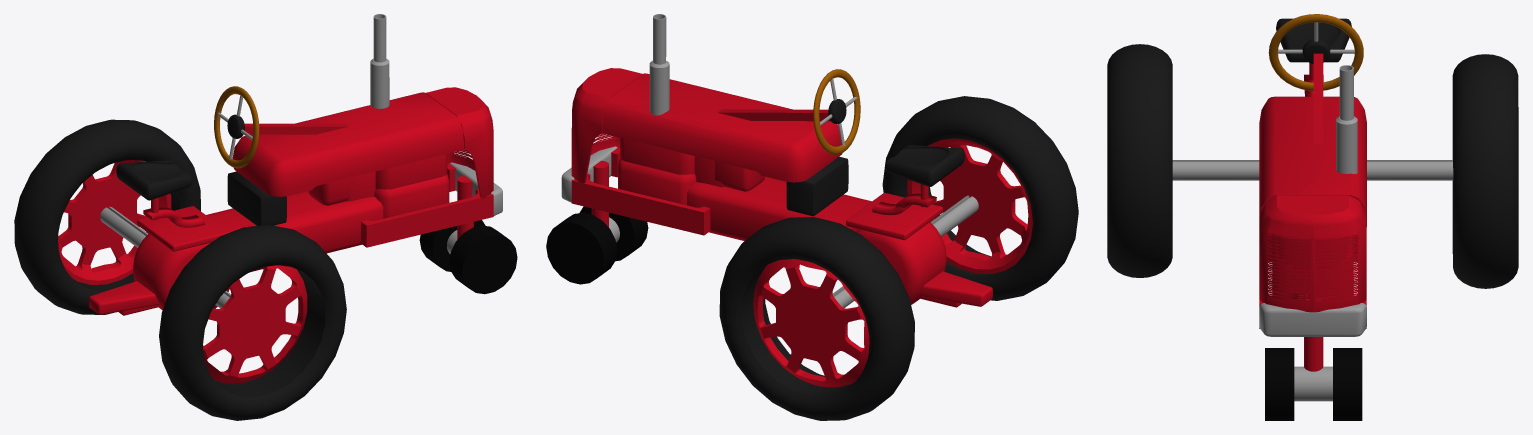
The model's file is carAll.dae.
The picture shows the model from 3 angles, left to right: view 1: azimuth 30°, elevation 25°; view 2: azimuth 150°, elevation 25°; view 3: azimuth 270°, elevation 25°; orthographic projection. The views are drawn at different scales.
Visible parts, largest first — view 1: Torus10, ChamferBox01, Torus01, Cylinder98, Cylinder16, ChamferBox06, ChamferBox30, Cylindre02, ChamferBox02, Box02, ChamferBox10, ChamferBox29 (+14 smaller); view 2: Torus01, Torus10, ChamferBox01, Cylinder16, Cylinder98, ChamferBox06, ChamferBox30, Cylindre01, ChamferBox02, Box01, ChamferBox29, ChamferBox10 (+14 smaller); view 3: Torus01, Torus10, ChamferBox02, ChamferBox01, Cylinder143, ChamferBox08, Cylindre01, Cylindre02, Torus03, ChamferBox10, Cylinder24, ChamferBox04 (+6 smaller).
Boxes of the visible parts, bbox=[...] form: Torus10: bbox=[159, 224, 346, 420]; ChamferBox01: bbox=[232, 92, 463, 196]; Torus01: bbox=[14, 119, 200, 314]; Cylinder98: bbox=[203, 265, 307, 383]; Cylinder16: bbox=[58, 160, 171, 284]; ChamferBox06: bbox=[206, 191, 383, 271]; ChamferBox30: bbox=[89, 233, 229, 315]; Cylindre02: bbox=[449, 225, 517, 294]; ChamferBox02: bbox=[425, 87, 493, 198]; Box02: bbox=[360, 188, 493, 247]; ChamferBox10: bbox=[116, 160, 192, 200]; ChamferBox29: bbox=[227, 171, 286, 225]; Torus01: bbox=[719, 217, 914, 420]; Torus10: bbox=[882, 96, 1078, 300]; ChamferBox01: bbox=[602, 73, 842, 182]; Cylinder16: bbox=[753, 259, 869, 387]; Cylinder98: bbox=[907, 138, 1032, 274]; ChamferBox06: bbox=[687, 176, 871, 240]; ChamferBox30: bbox=[856, 222, 992, 307]; Cylindre01: bbox=[546, 212, 617, 284]; ChamferBox02: bbox=[571, 68, 642, 183]; Box01: bbox=[571, 174, 710, 235]; ChamferBox29: bbox=[786, 156, 848, 216]; ChamferBox10: bbox=[885, 145, 964, 186]; Torus01: bbox=[1452, 54, 1518, 288]; Torus10: bbox=[1107, 44, 1172, 277]; ChamferBox02: bbox=[1259, 195, 1366, 312]; ChamferBox01: bbox=[1259, 96, 1366, 226]; Cylinder143: bbox=[1172, 160, 1453, 180]; ChamferBox08: bbox=[1259, 303, 1366, 336]; Cylindre01: bbox=[1333, 348, 1362, 420]; Cylindre02: bbox=[1265, 348, 1294, 420]; Torus03: bbox=[1268, 14, 1363, 90]; ChamferBox10: bbox=[1276, 18, 1351, 62]; Cylinder24: bbox=[1294, 366, 1332, 401]; ChamferBox04: bbox=[1272, 233, 1353, 299].
Bounding box in the file's own units: 55.22 × 42.1 × 36.96.
